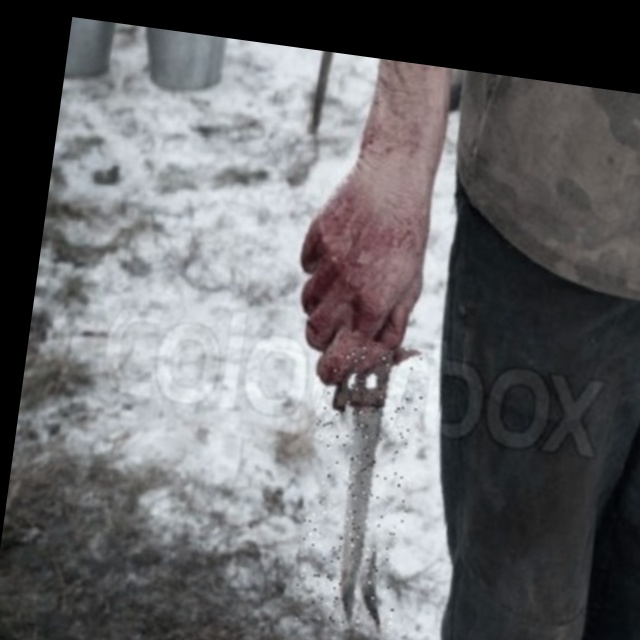Sharp-Object: (291, 336, 428, 634)
